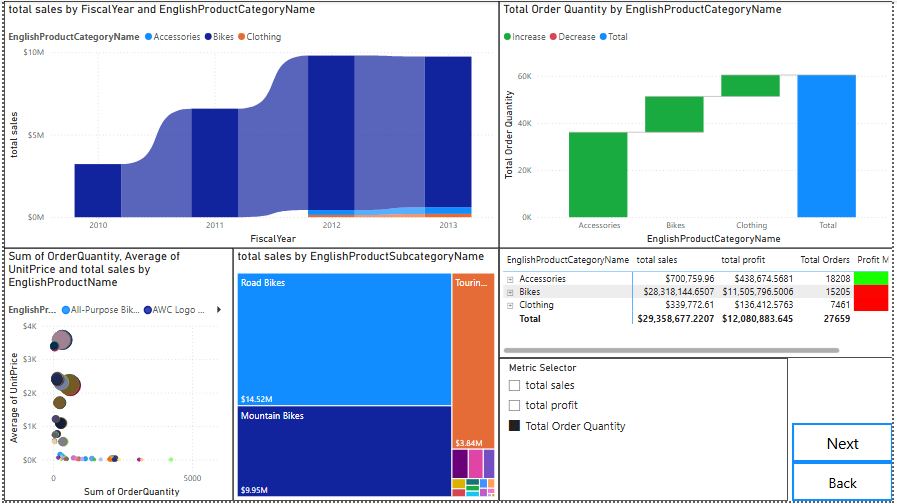

This screenshot's page, from the dashboard's own definition file:
{"tool":"powerbi","page":{"name":"Page 3","canvas":[1280,720],"ordinal":2},"visuals":[{"type":"pivotTable","fields":{"Values":["FactInternetSales.totl sales","FactInternetSales.total profit","FactInternetSales.Total Orders","FactInternetSales.Profit Margin %"],"Rows":["DimProductCategory.EnglishProductCategoryName","DimProductSubcategory.EnglishProductSubcategoryName","DimProduct.EnglishProductName"]},"box":[712.8,355.7,567.4,158.4],"z":0},{"type":"treemap","fields":{"Group":["DimProductSubcategory.EnglishProductSubcategoryName"],"Values":["FactInternetSales.totl sales"]},"box":[329.8,355.7,383,364.3],"z":1000},{"type":"waterfallChart","fields":{"Y":["FactInternetSales.Total Order Quantity"],"Category":["DimProductCategory.EnglishProductCategoryName"]},"box":[712.8,0,567.4,355.7],"z":2000},{"type":"ribbonChart","fields":{"Y":["FactInternetSales.totl sales"],"Category":["DimDate.Date Hierarchy.FiscalYear"],"Series":["DimProductCategory.EnglishProductCategoryName"]},"box":[0,0,712.8,355.7],"z":3000},{"type":"scatterChart","fields":{"X":["Sum(FactInternetSales.OrderQuantity)"],"Y":["Avg(FactInternetSales.UnitPrice)"],"Series":["DimProduct.EnglishProductName"],"Size":["FactInternetSales.totl sales"]},"box":[0,355.7,329.8,364.3],"z":4000},{"type":"slicer","fields":{"Values":["Metric Selector.Metric Selector"]},"box":[712.8,514.1,416.2,205.9],"z":5000},{"type":"actionButton","box":[1134.7,663.8,145.4,56.2],"z":6000},{"type":"actionButton","box":[1134.7,607.7,145.4,56.2],"z":7000}]}

Visuals, with their boxes in screenshot pixels (x1, y1, x2, y2), scaled from the page's 1280x720 canvas onto the 897x504 screenshot:
pivotTable - FactInternetSales.totl sales x FactInternetSales.total profit: l=500, t=249, r=896, b=360
treemap - DimProductSubcategory.EnglishProductSubcategoryName x FactInternetSales.totl sales: l=231, t=249, r=500, b=503
waterfallChart - FactInternetSales.Total Order Quantity x DimProductCategory.EnglishProductCategoryName: l=500, t=0, r=896, b=249
ribbonChart - FactInternetSales.totl sales x DimDate.Date Hierarchy.FiscalYear: l=0, t=0, r=500, b=249
scatterChart - Sum(FactInternetSales.OrderQuantity) x Avg(FactInternetSales.UnitPrice): l=0, t=249, r=231, b=503
slicer - Metric Selector.Metric Selector: l=500, t=360, r=791, b=503
actionButton: l=795, t=465, r=896, b=503
actionButton: l=795, t=425, r=896, b=465
